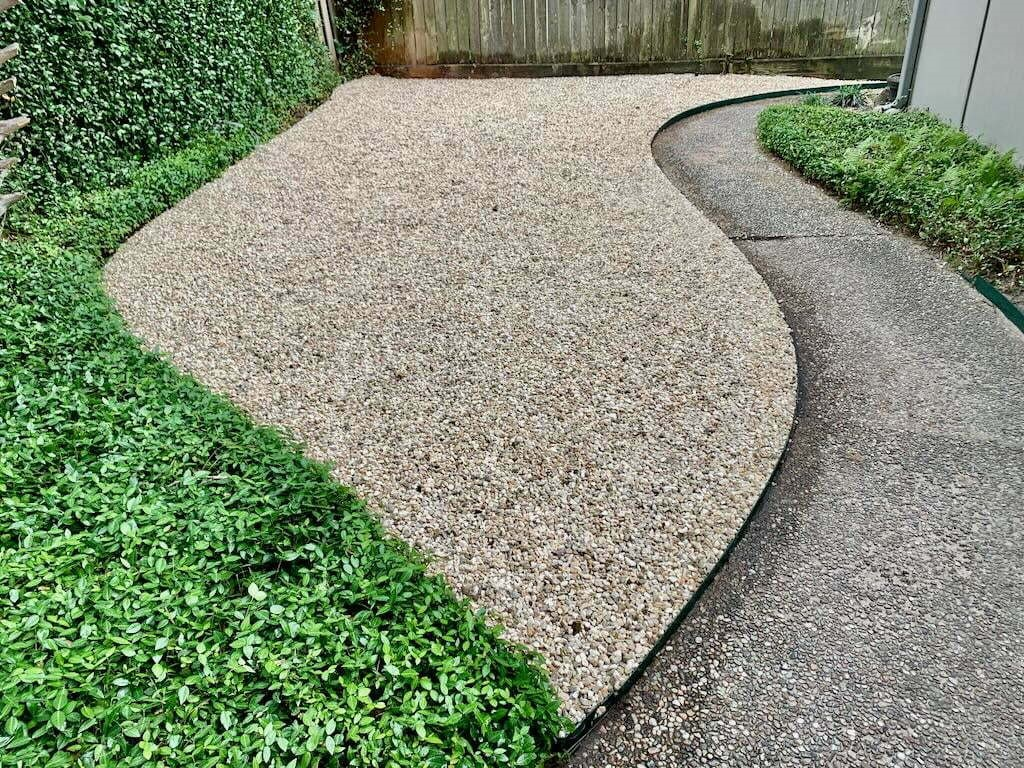grass: (2, 237, 548, 766), (756, 97, 1023, 267)
rock: (93, 76, 844, 715)
